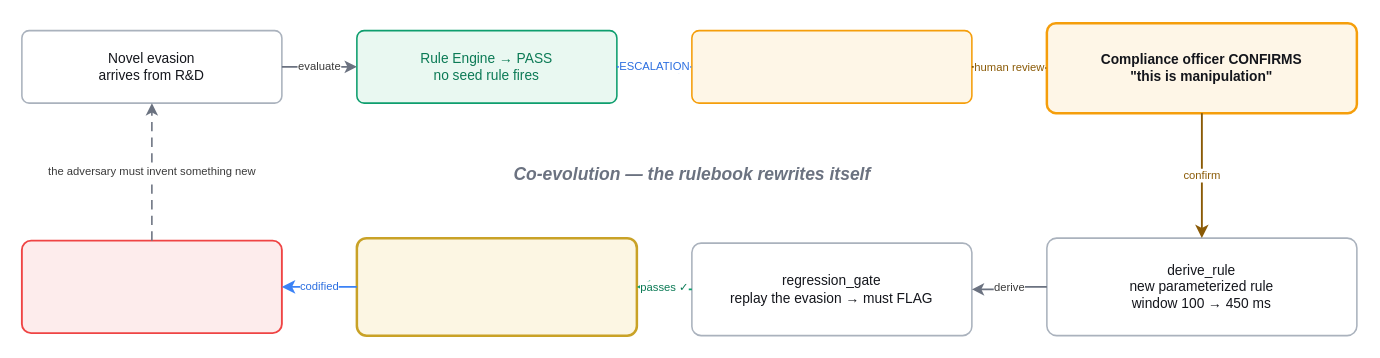
The diagram is 1380 pixels wide and 358 high, and some of its shapes have lost their labels. The shapes that lost their labels are listed below. From the top down, each one's box as (x1, y1, x2, y2) in pixels, then its label:
(690, 29, 972, 103): Case ESCALATED Escalation Manager → human
(20, 239, 282, 334): case flips PASS → FLAGGED
(355, 236, 638, 336): codify → registry Active Rules 4 → 5
